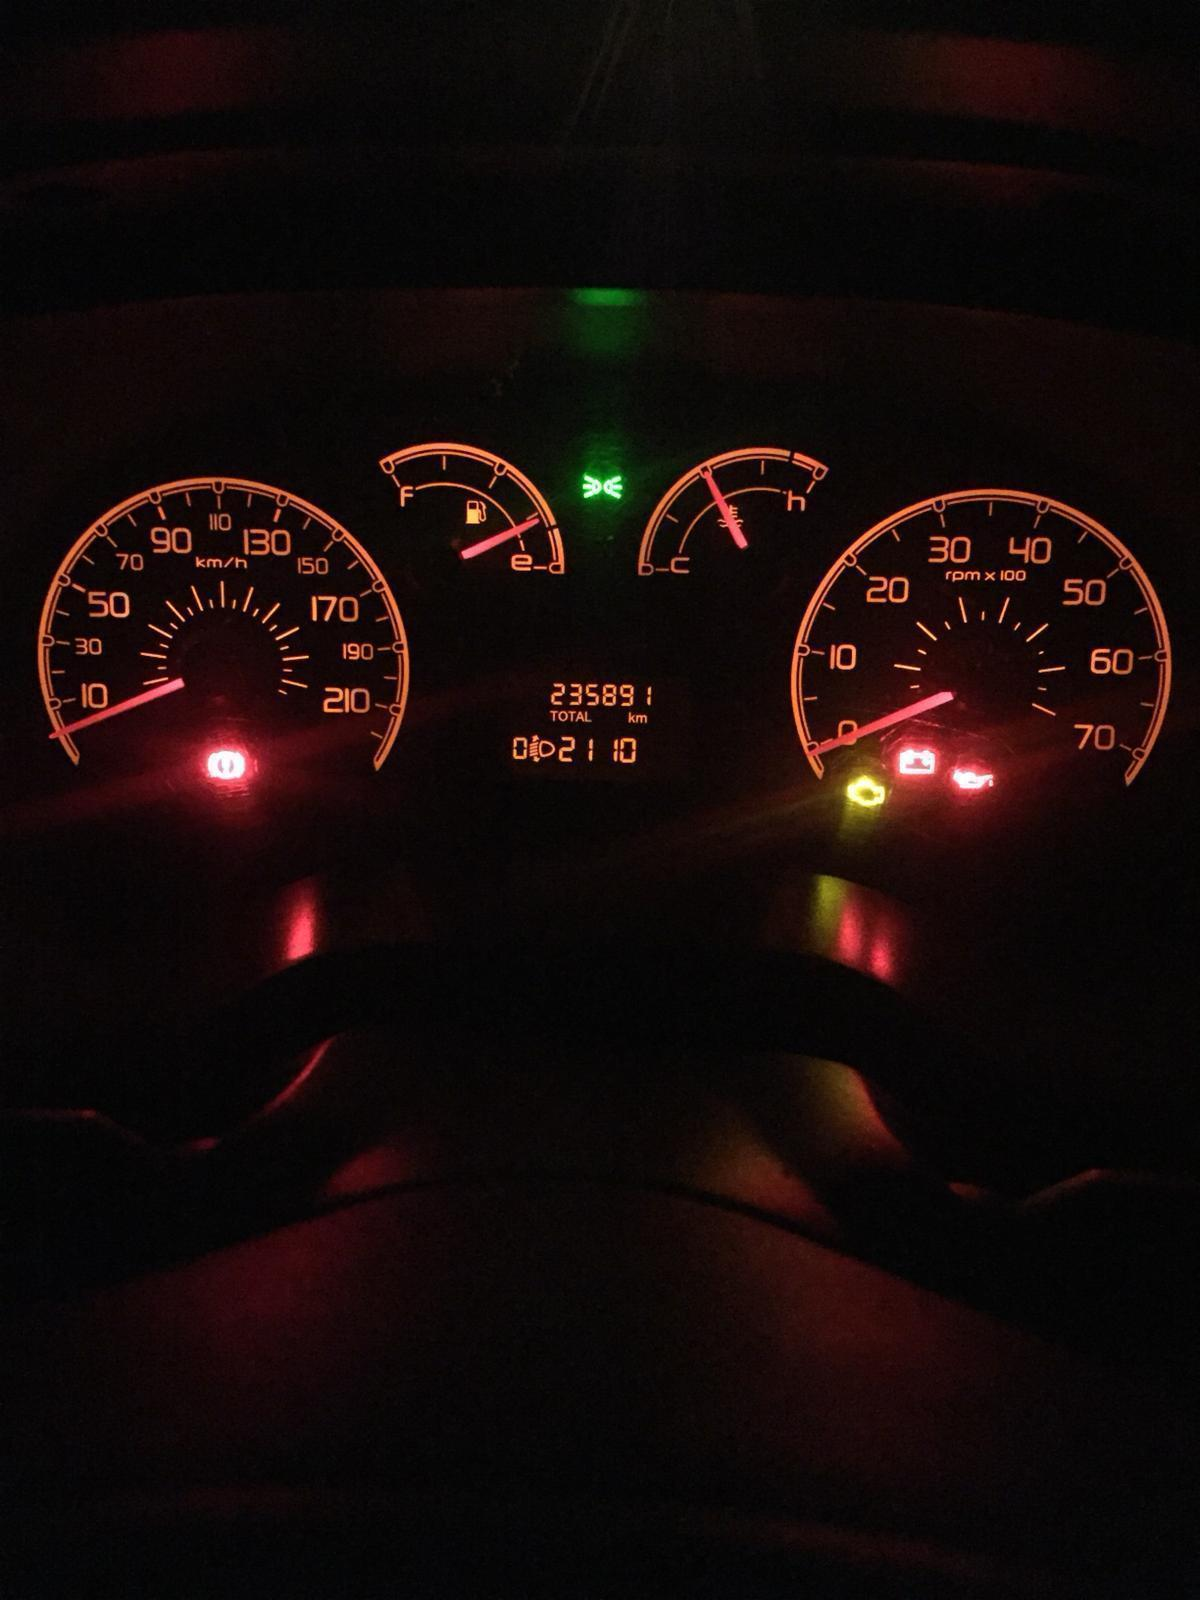0: (618, 736, 638, 763), (511, 734, 528, 761)
1: (585, 734, 597, 763), (642, 684, 655, 707), (608, 737, 618, 763)
2: (555, 734, 577, 763), (548, 682, 565, 706)
3: (566, 682, 582, 706)
5: (584, 682, 600, 706)
8: (601, 682, 618, 706)
9: (618, 683, 635, 708)
X: (626, 711, 635, 723), (635, 714, 648, 723), (558, 711, 568, 721), (584, 711, 592, 722), (550, 708, 557, 721), (576, 711, 584, 722), (568, 711, 575, 721)
odometer: (488, 661, 671, 777)
